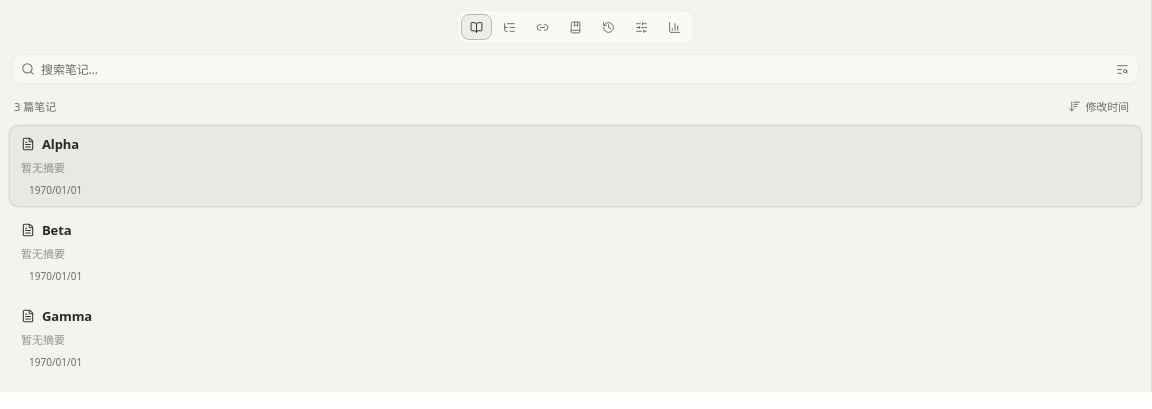
Scenario: Note card context menu › delete › asks first, then deletes the note together with its images folder
Right-click the list item with class "note-card" showing "Gamma 暂无摘要 1970/01/01".
right_click(576, 338)  # box [8,296,1143,380]
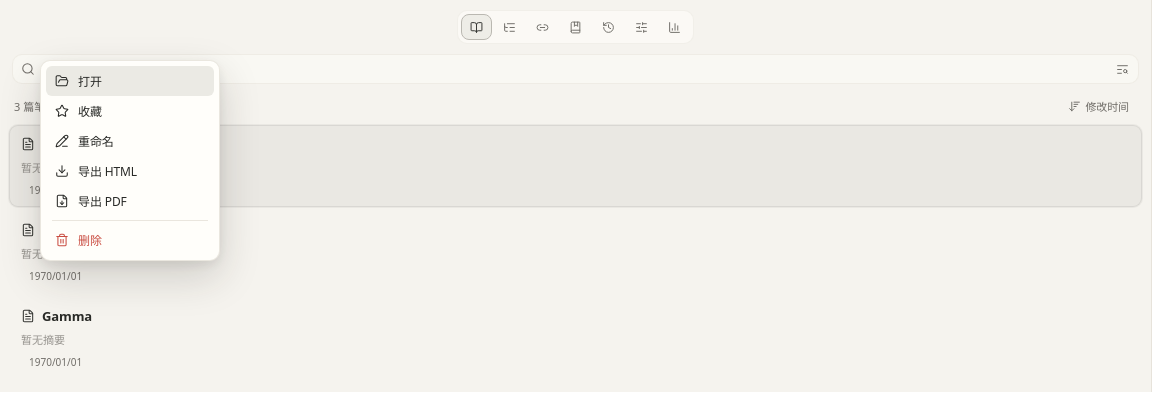
Now the menu item with class "ctx-menu-item" showing "删除" is shown
Click the menu item with class "ctx-menu-item" showing "删除".
click(130, 240)  # box [46,225,214,255]
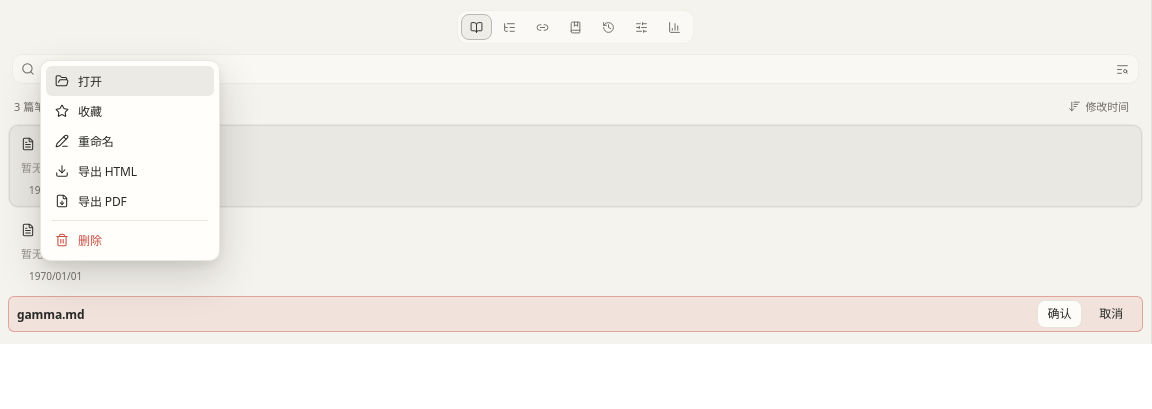
Now the element with class "nl-del-confirm" is shown, box [8,296,1143,332]
Now the element with class "nl-del-confirm" shows "gamma.md", box [17,306,84,323]
Click the button with class "nl-del-yes".
click(1059, 314)  # box [1037,300,1082,328]
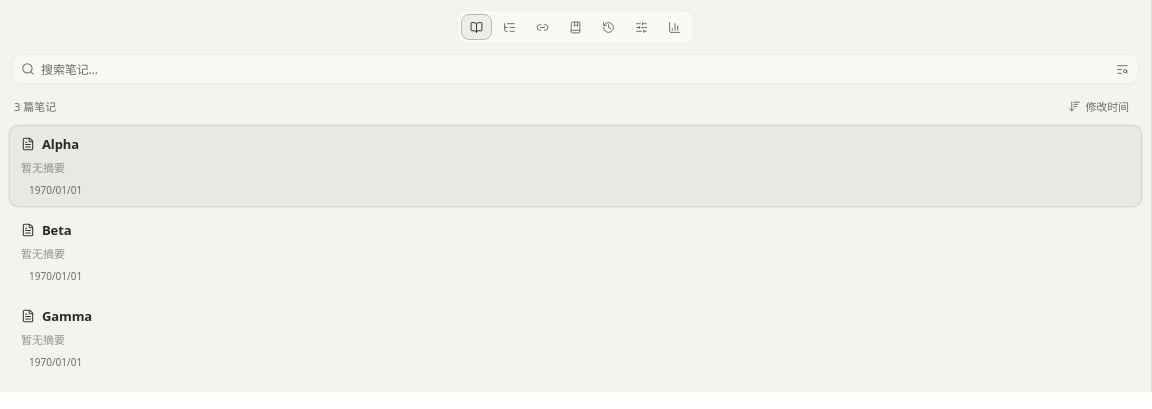
Now the element with class "nl-del-confirm" is gone
